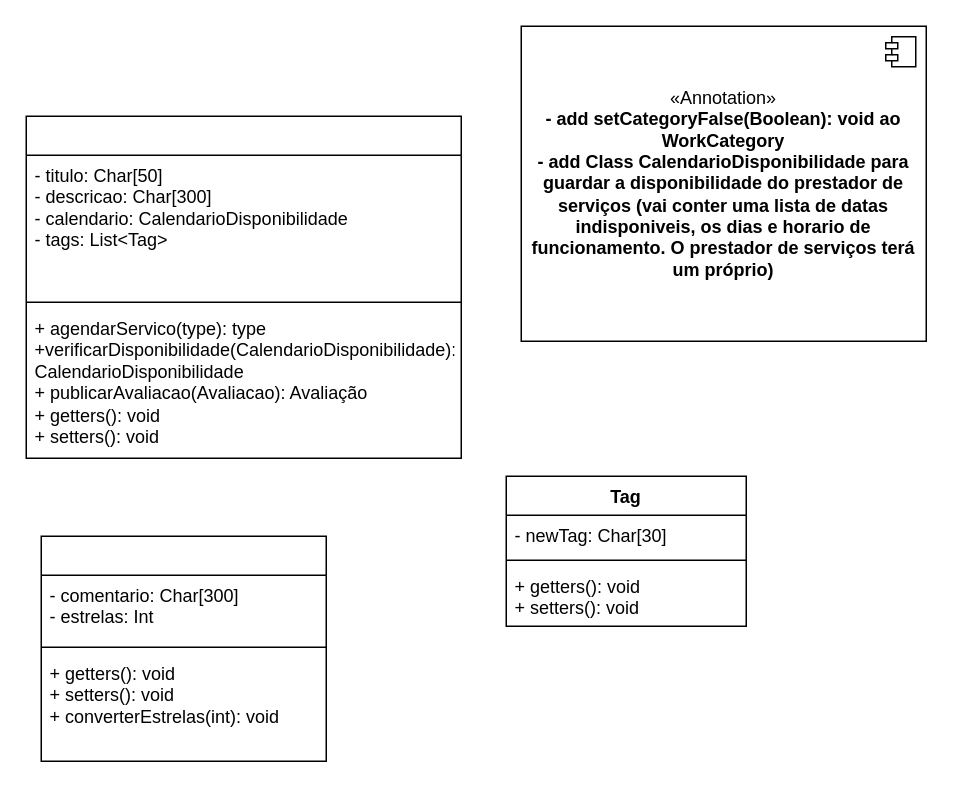
This 953x792 diagram has some shape labels left out. Here are the shapes that lost their labels. From the top down, the box of each, then its label:
(25, 115, 461, 458): Serviço
(40, 535, 326, 761): Avaliacao
